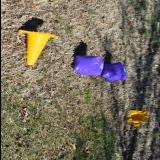cone: (16, 30, 58, 66), (126, 110, 146, 128)
cube: (72, 55, 102, 75), (100, 62, 126, 82)
